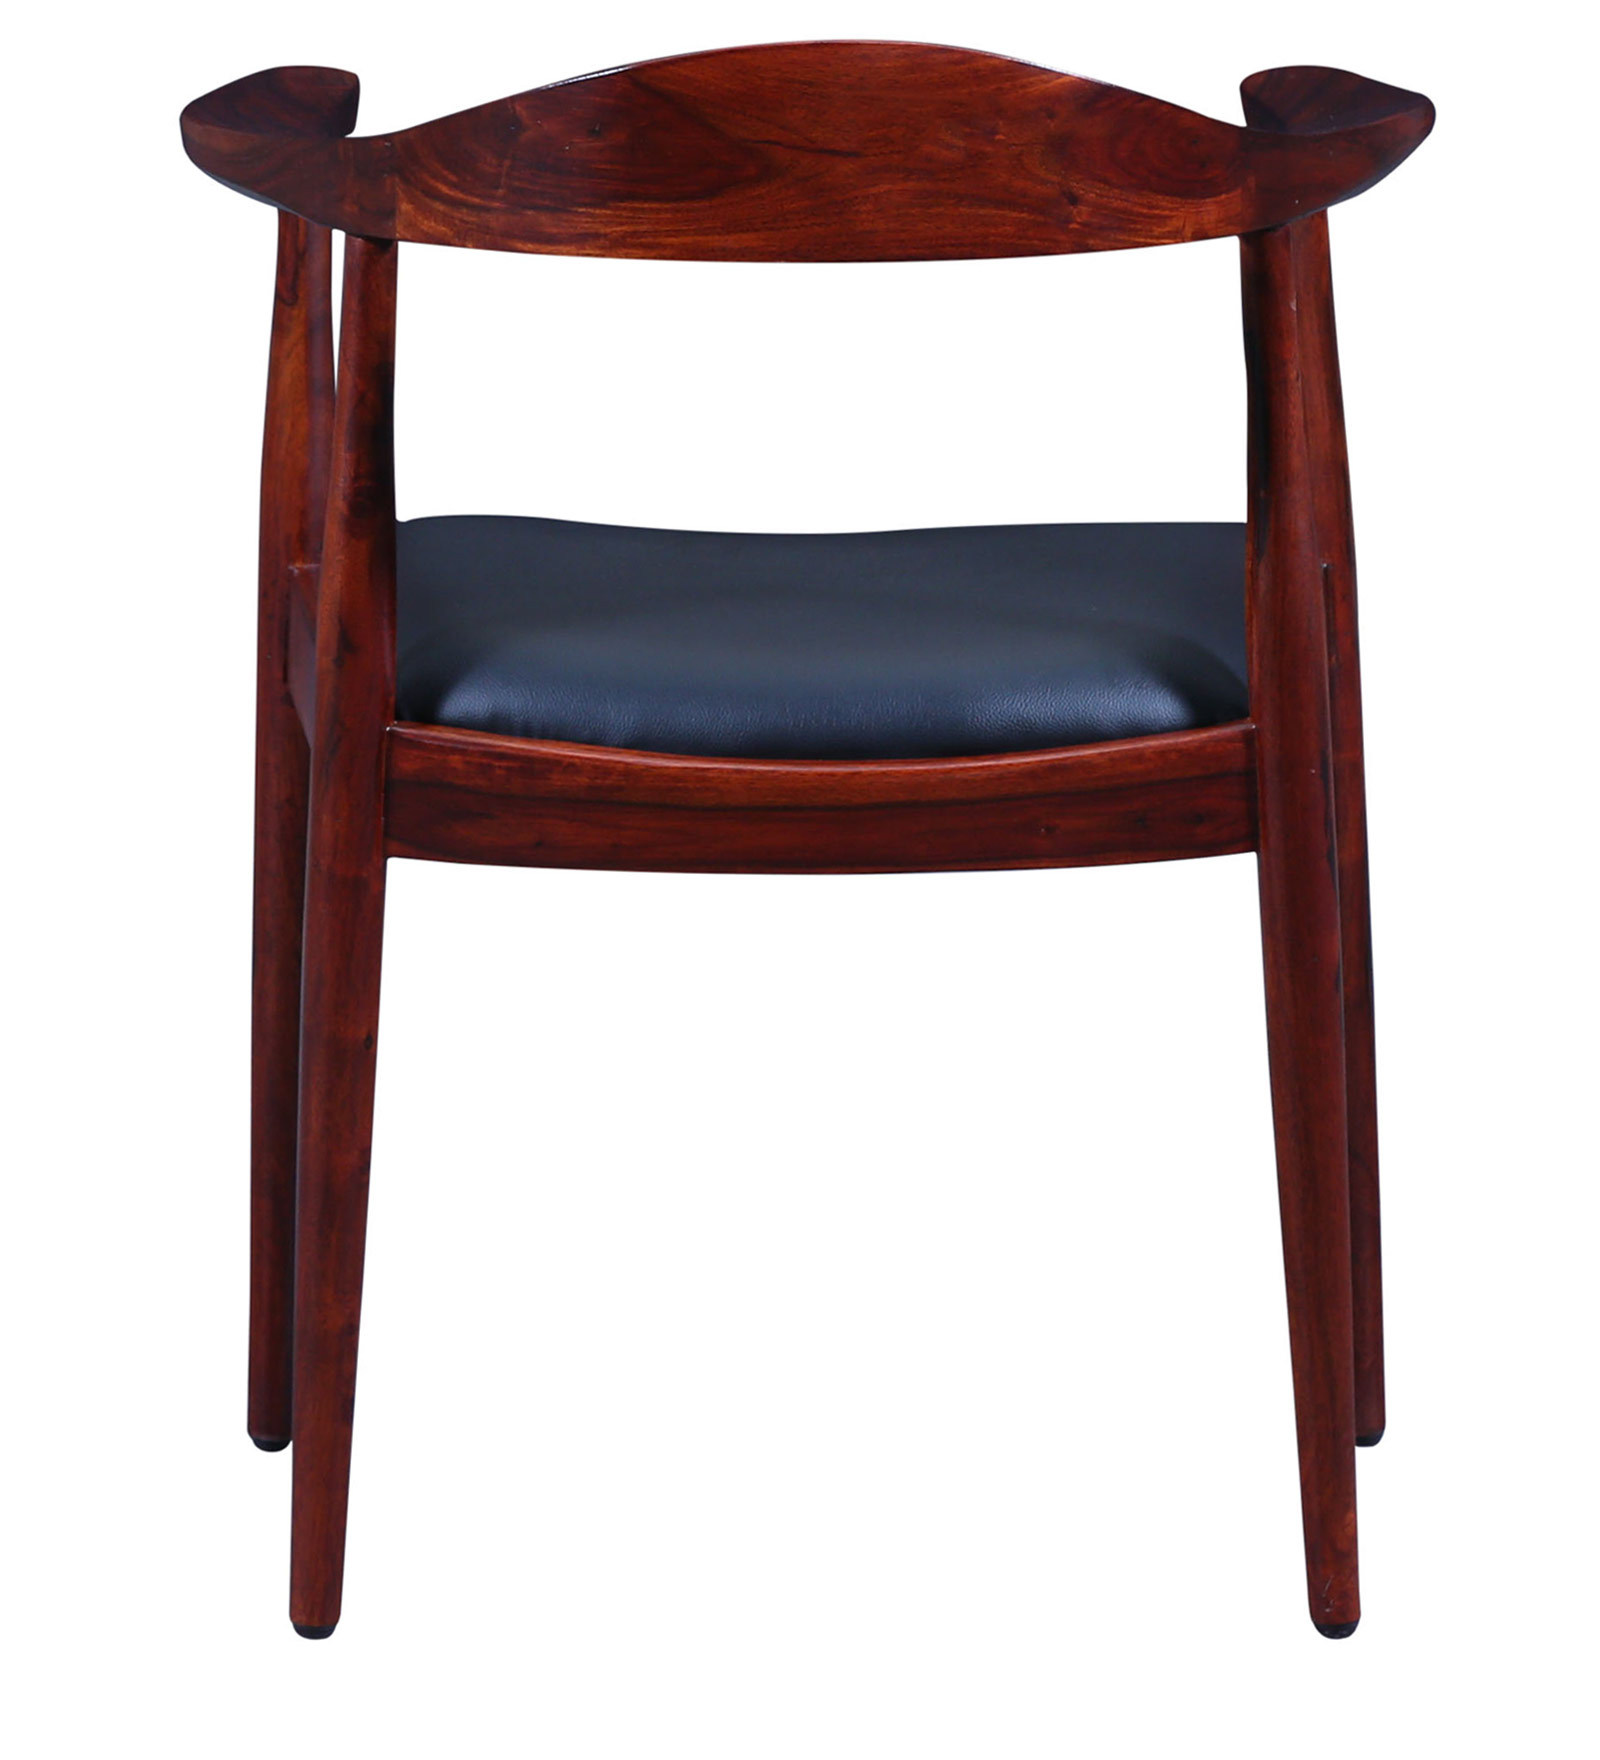Esvelt Arm Chair in Honey Oak Finish by Woodsworth: (141, 31, 1461, 1709)
